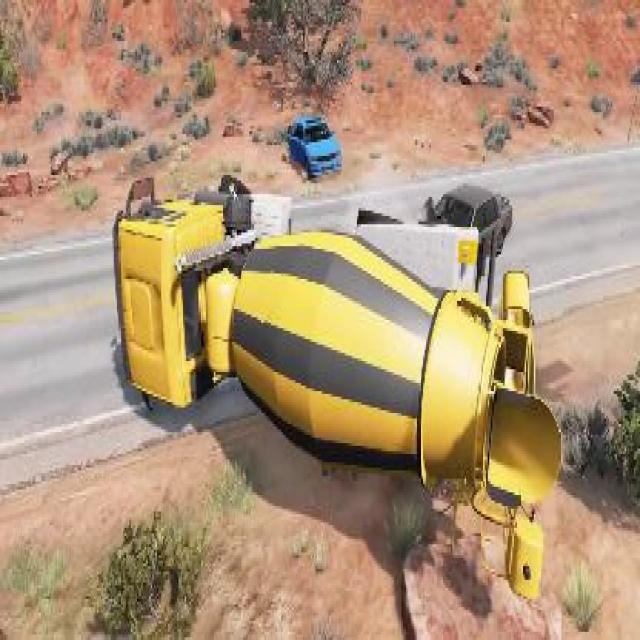accident: (109, 153, 565, 605)
